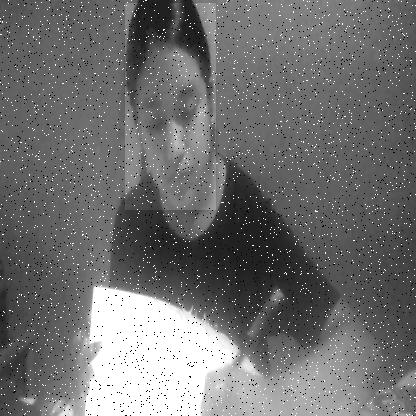Normal: (125, 3, 216, 210)
